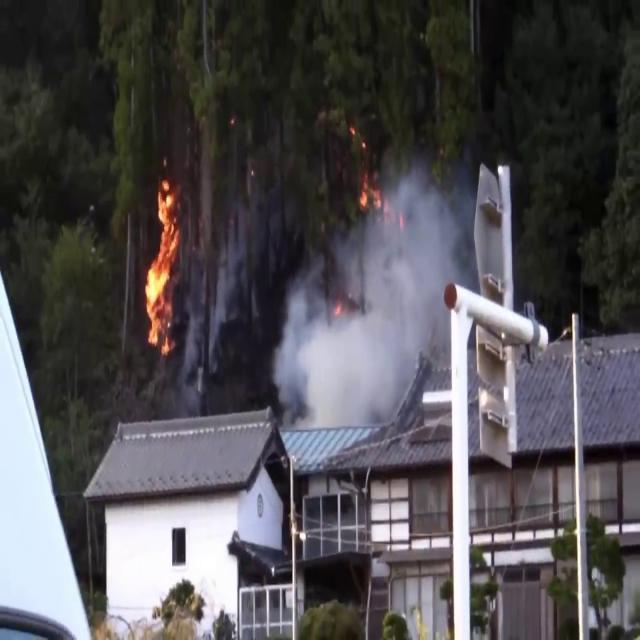Fire: (140, 172, 187, 356)
Smoke: (268, 151, 474, 429)
